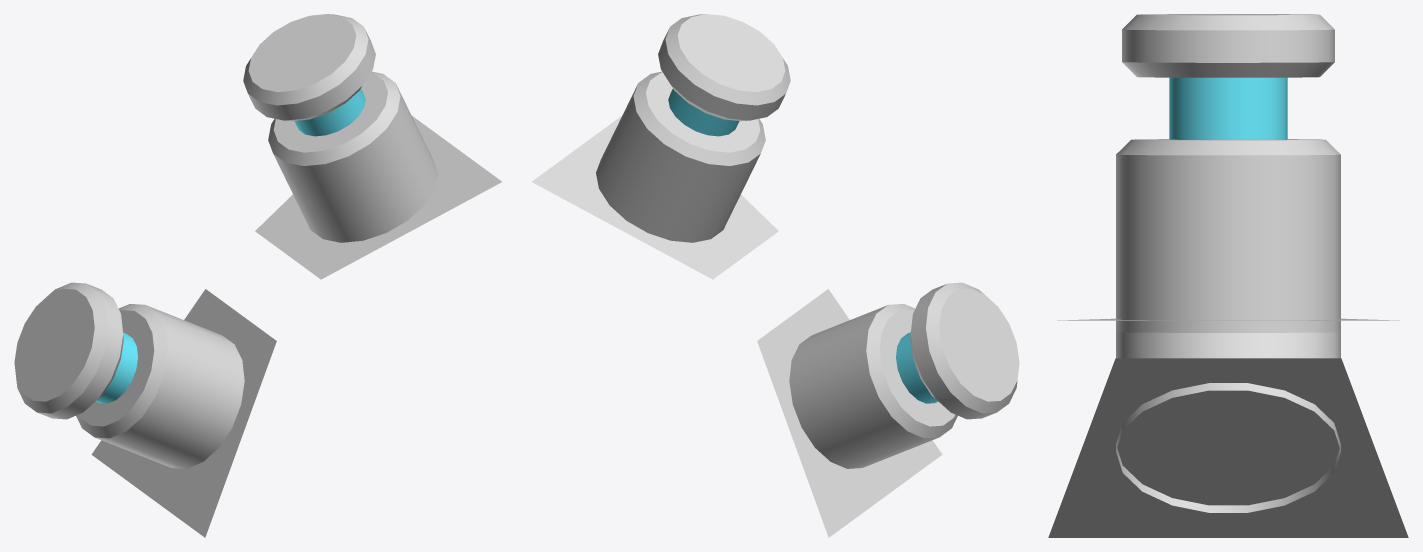
Rendered from Mod_Pauldron_R_Forge3.fbx.
3 renders of one model, left to right at view 1: azimuth 30°, elevation 25°; view 2: azimuth 150°, elevation 25°; view 3: azimuth 270°, elevation 25°, orthographic. The views are drawn at different scales.
Parts seen in each view (by area): view 1: Mod_Pauldron_R_Forge3; view 2: Mod_Pauldron_R_Forge3; view 3: Mod_Pauldron_R_Forge3.
Boxes of the visible parts, box(x1,y1,x2,y2) form: Mod_Pauldron_R_Forge3: box(14, 14, 501, 537); Mod_Pauldron_R_Forge3: box(532, 14, 1019, 537); Mod_Pauldron_R_Forge3: box(1048, 14, 1408, 537).
Size of the model in its own units: 306 by 299 by 144.
